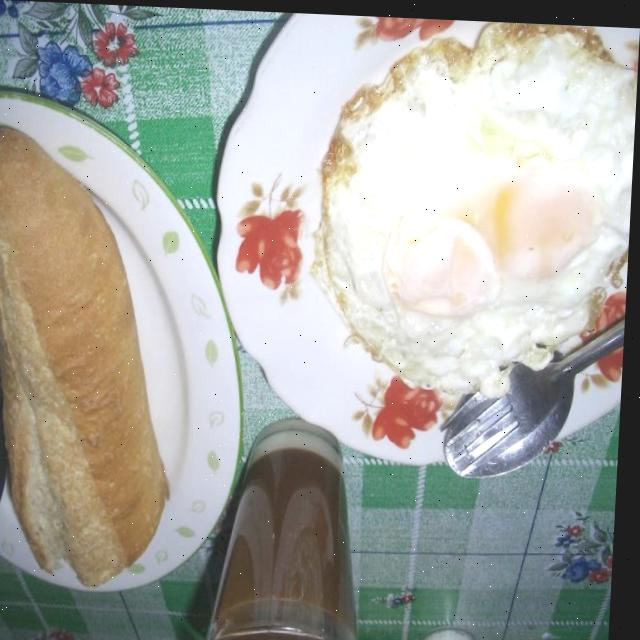鸡蛋料理: (260, 17, 640, 402)
